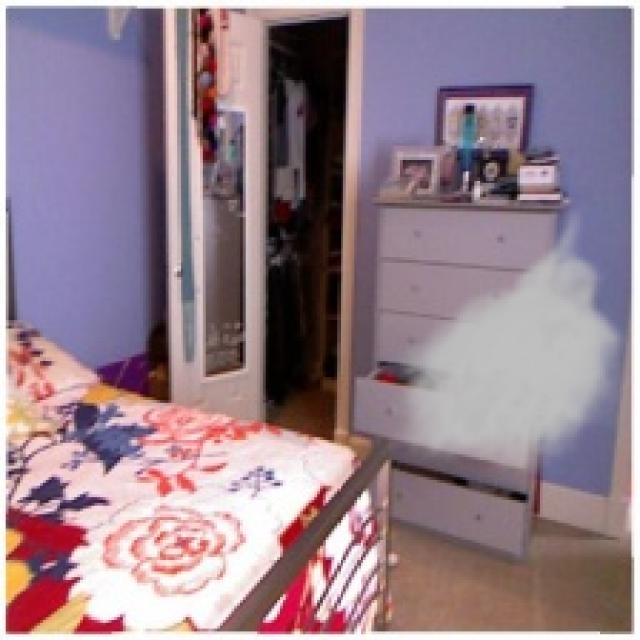smoke: (386, 203, 631, 474)
